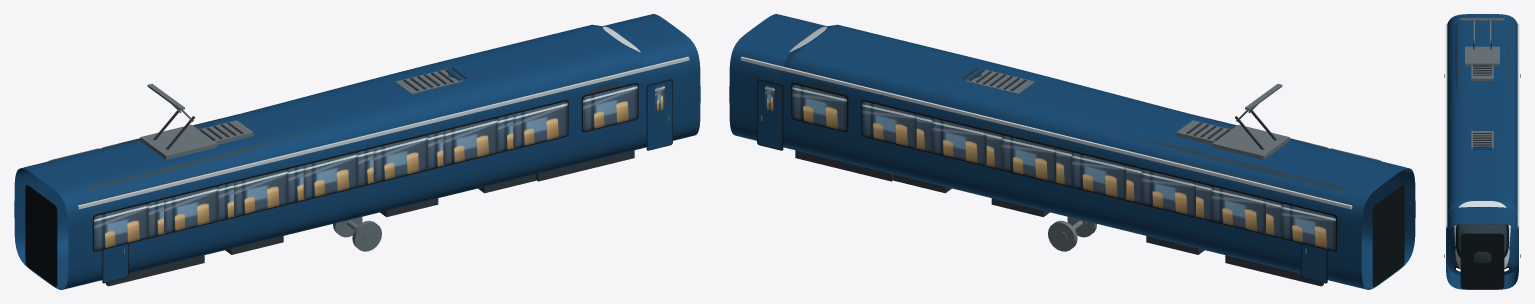
File: saphir-odoriko.glb
3 views of the same model, side by side, from view 1: azimuth 30°, elevation 25°; view 2: azimuth 150°, elevation 25°; view 3: azimuth 270°, elevation 25° (orthographic). The views are drawn at different scales.
Parts seen in each view (by area): view 1: cab-shell__CAB_PAINT, car-shell__CAB_PAINT, body__PASSENGER_GLASS.001, body__PASSENGER_GLASS, body__RUBBER.001, body__RUBBER, body__MACHINERY.001, body__LIVERY_1, pantograph__STAINLESS, body__CAB_PAINT.001, body__LIVERY_1.001, body__CAB_GLASS.001 (+7 smaller); view 2: cab-shell__CAB_PAINT, car-shell__CAB_PAINT, body__PASSENGER_GLASS.001, body__RUBBER.001, body__PASSENGER_GLASS, body__RUBBER, body__MACHINERY.001, body__LIVERY_1, pantograph__STAINLESS, body__CAB_PAINT.001, body__LIVERY_1.001, body__CAB_GLASS.001 (+7 smaller); view 3: cab-shell__CAB_PAINT, car-shell__CAB_PAINT, body__RUBBER.001, body__LIVERY_1.001, pantograph__STAINLESS, cab-window-glazing__CAB_GLASS, cab-mask__LIVERY_1, body__CAB_CONSOLE, body__MACHINERY.001, body__STAINLESS.001, body__CAB_GLASS.001, cab-window-gasket__RUBBER (+3 smaller).
Boxes of the visible parts, left/top/right/bottom form: cab-shell__CAB_PAINT: left=16, top=24, right=651, bottom=289; car-shell__CAB_PAINT: left=14, top=14, right=700, bottom=289; body__PASSENGER_GLASS.001: left=94, top=84, right=664, bottom=250; body__PASSENGER_GLASS: left=148, top=114, right=514, bottom=237; body__RUBBER.001: left=25, top=79, right=672, bottom=285; body__RUBBER: left=25, top=112, right=513, bottom=286; body__MACHINERY.001: left=108, top=67, right=634, bottom=286; body__LIVERY_1: left=77, top=68, right=644, bottom=209; pantograph__STAINLESS: left=140, top=83, right=217, bottom=159; body__CAB_PAINT.001: left=647, top=80, right=672, bottom=149; body__LIVERY_1.001: left=25, top=18, right=689, bottom=206; body__CAB_GLASS.001: left=48, top=114, right=324, bottom=200; cab-shell__CAB_PAINT: left=778, top=24, right=1413, bottom=289; car-shell__CAB_PAINT: left=729, top=14, right=1415, bottom=289; body__PASSENGER_GLASS.001: left=765, top=84, right=1335, bottom=250; body__RUBBER.001: left=757, top=79, right=1403, bottom=286; body__PASSENGER_GLASS: left=915, top=114, right=1281, bottom=237; body__RUBBER: left=916, top=112, right=1404, bottom=286; body__MACHINERY.001: left=795, top=67, right=1321, bottom=286; body__LIVERY_1: left=785, top=68, right=1352, bottom=209; pantograph__STAINLESS: left=1212, top=83, right=1289, bottom=159; body__CAB_PAINT.001: left=757, top=80, right=782, bottom=149; body__LIVERY_1.001: left=740, top=18, right=1404, bottom=206; body__CAB_GLASS.001: left=1106, top=114, right=1381, bottom=200; cab-shell__CAB_PAINT: left=1446, top=14, right=1518, bottom=275; car-shell__CAB_PAINT: left=1446, top=14, right=1518, bottom=289; body__RUBBER.001: left=1460, top=233, right=1504, bottom=289; body__LIVERY_1.001: left=1445, top=23, right=1519, bottom=227; pantograph__STAINLESS: left=1460, top=18, right=1504, bottom=66; cab-window-glazing__CAB_GLASS: left=1458, top=223, right=1506, bottom=262; cab-mask__LIVERY_1: left=1454, top=201, right=1510, bottom=268; body__CAB_CONSOLE: left=1460, top=224, right=1504, bottom=240; body__MACHINERY.001: left=1473, top=65, right=1491, bottom=150; body__STAINLESS.001: left=1444, top=78, right=1520, bottom=257; body__CAB_GLASS.001: left=1449, top=23, right=1515, bottom=99; cab-window-gasket__RUBBER: left=1456, top=207, right=1508, bottom=257.
Bounding box in the file's own units: 20.05 × 5.86 × 3.08.
Materials: 10 (1 with a texture image).
